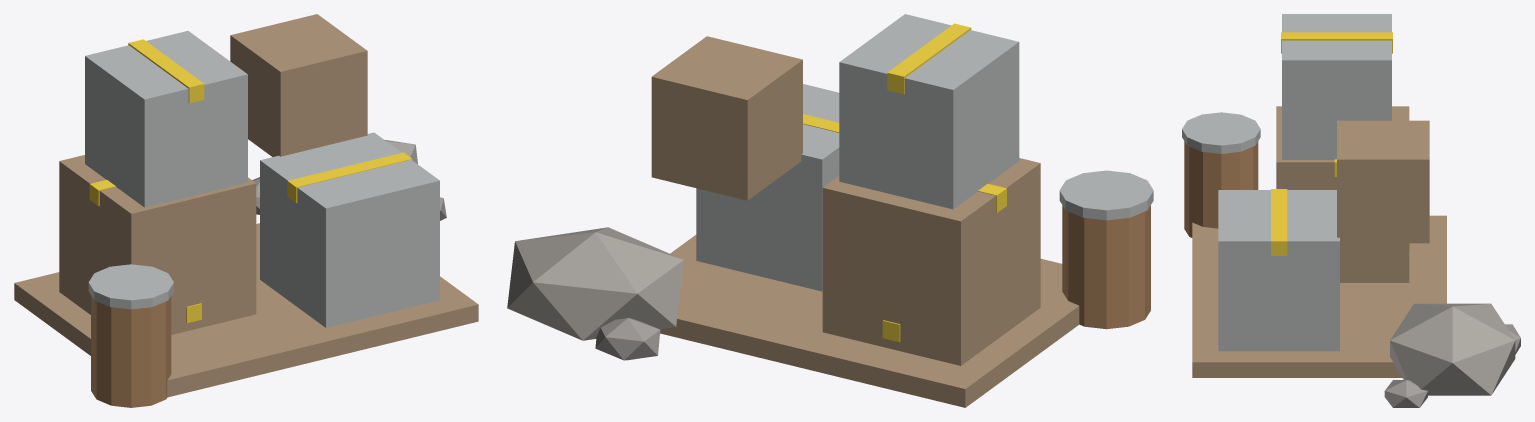
File: supply_deposit.glb
3 views of the same model, side by side, from view 1: azimuth 30°, elevation 25°; view 2: azimuth 150°, elevation 25°; view 3: azimuth 270°, elevation 25° (orthographic). The views are drawn at different scales.
Visible parts, largest first — view 1: CrateB, CrateC, CrateA, Pallet, CrateD, Barrel, BarrelRim, HzC1, HzB1; view 2: CrateA, CrateC, Pallet, CrateD, Pile, CrateB, Barrel, BarrelRim, Rock1, HzC1; view 3: CrateB, Pallet, CrateC, CrateD, Pile, CrateA, Barrel, BarrelRim, HzB1, HzC1, Rock2.
Boxes of the visible parts, x1,y1,x2,y2 form: CrateB: (260,132,439,327); CrateC: (85,31,247,207); CrateA: (59,155,256,334); Pallet: (14,223,478,397); CrateD: (230,14,367,156); Barrel: (91,295,171,407); BarrelRim: (88,264,173,309); HzC1: (128,39,204,103); HzB1: (287,152,412,203); CrateA: (822,158,1040,365); CrateC: (839,14,1019,209); Pallet: (660,235,1079,407); CrateD: (651,36,802,200); Pile: (507,227,683,340); CrateB: (696,84,839,291); Barrel: (1062,205,1150,329); BarrelRim: (1059,170,1153,220); Rock1: (595,318,660,360); HzC1: (887,23,971,94); CrateB: (1218,190,1339,351); Pallet: (1192,215,1446,377); CrateC: (1282,14,1391,159); CrateD: (1337,120,1429,243); Pile: (1390,303,1515,395); CrateA: (1276,106,1409,282); Barrel: (1184,141,1258,237); BarrelRim: (1182,112,1260,153); HzB1: (1271,189,1287,255); HzC1: (1281,32,1392,53); Rock2: (1384,380,1427,407).
Bounding box in the file's own units: 4.14 × 2.38 × 2.93.
